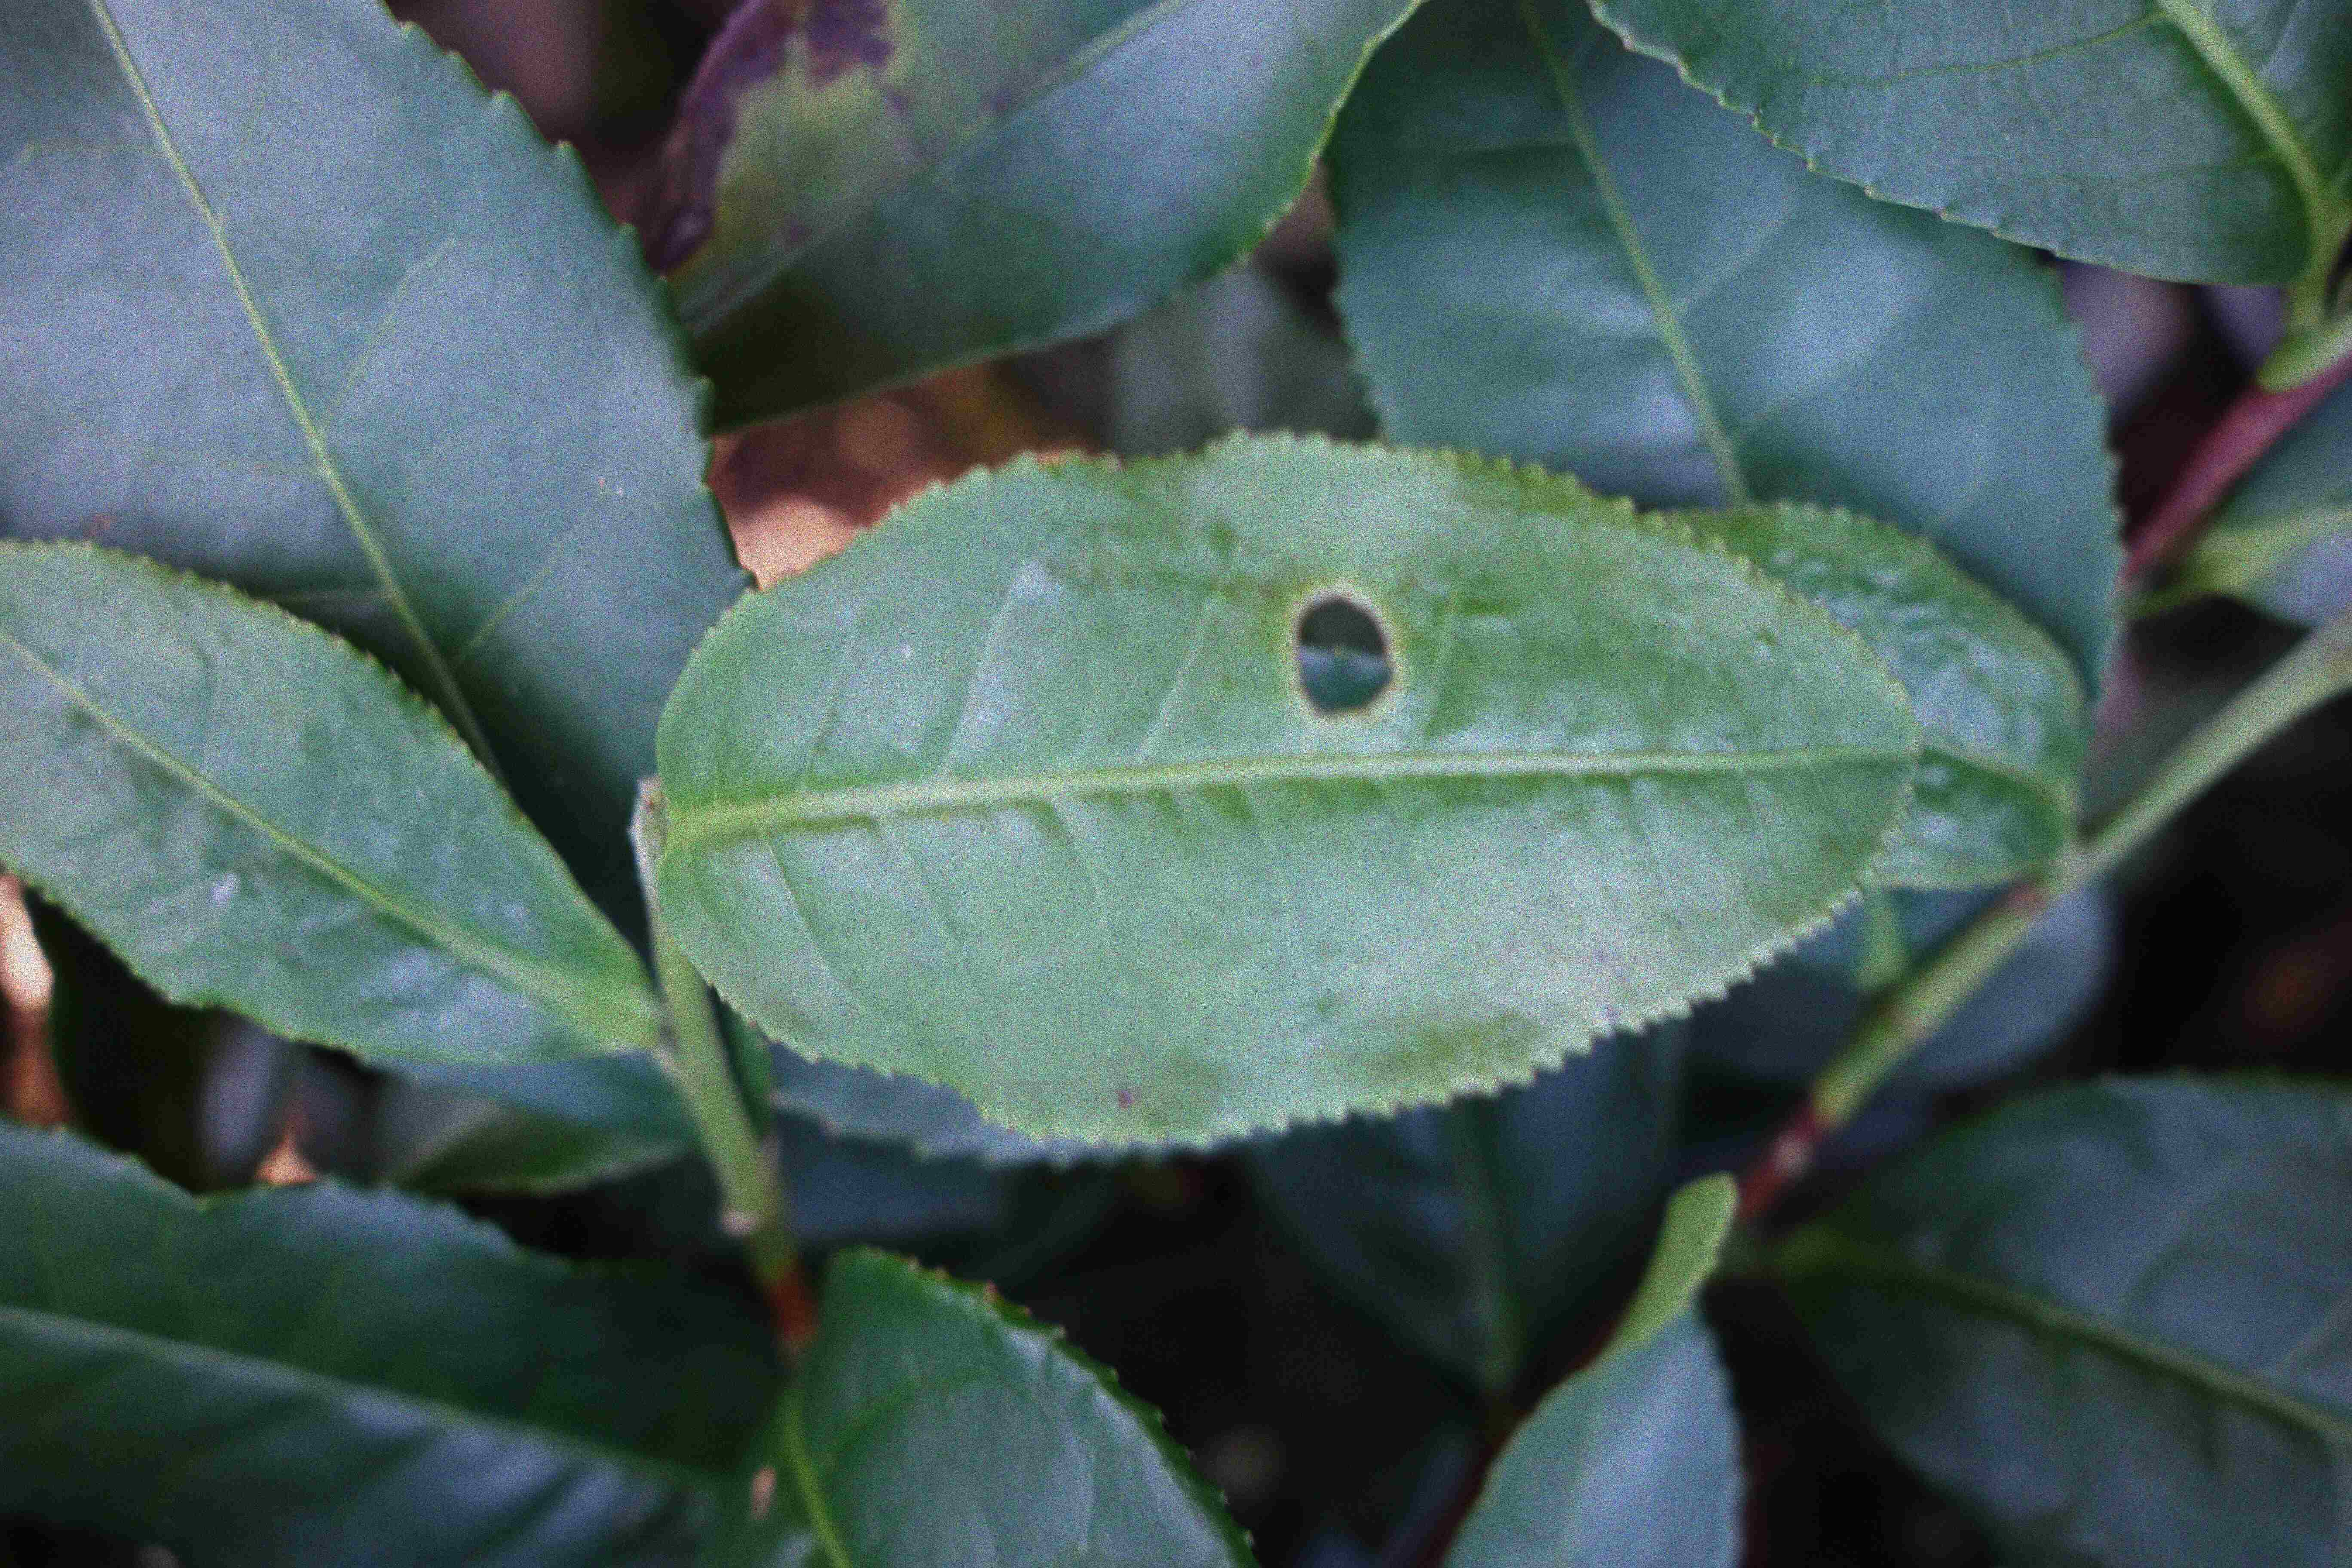chihuo_low: (651, 422, 1921, 1148)
healthy: (3, 5, 752, 740), (2, 532, 663, 1067)
tanju_high: (651, 7, 1419, 425)
